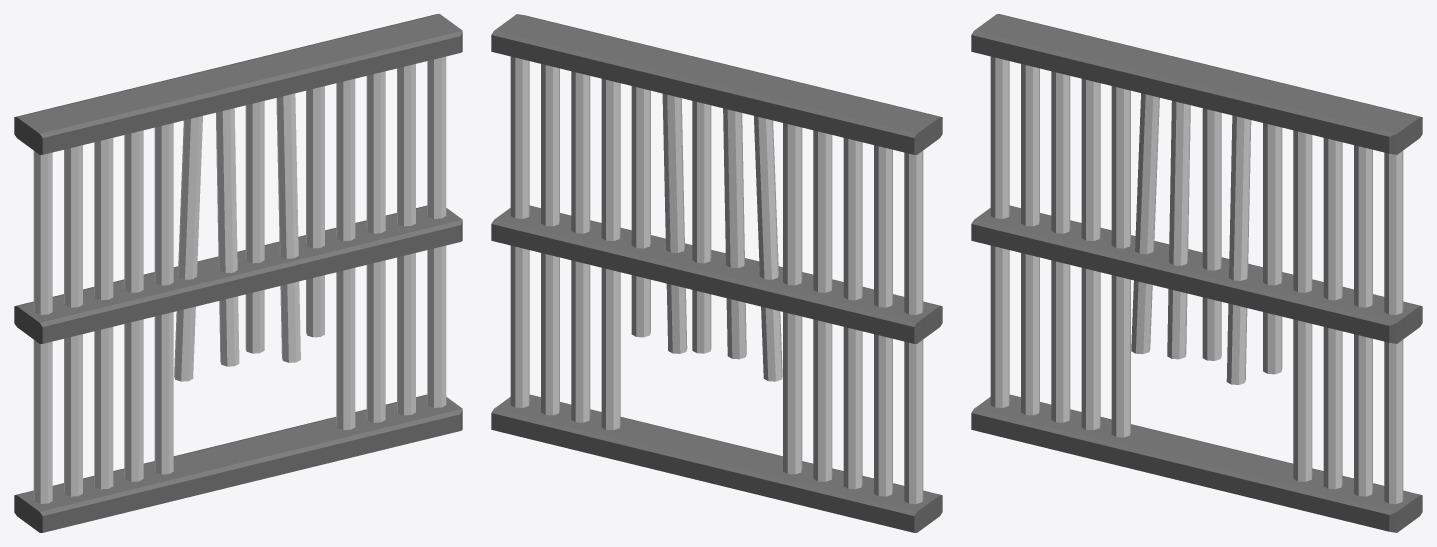
The model's file is PrisonBarsBroken.glb.
3 renders of one model, left to right at view 1: azimuth 30°, elevation 25°; view 2: azimuth 150°, elevation 25°; view 3: azimuth 330°, elevation 25°, orthographic.
Visible parts, largest first — view 1: Cage2; view 2: Cage2; view 3: Cage2.
Part boxes in pixels (x1,y1,x2,y2): Cage2: [14, 14, 462, 532]; Cage2: [491, 14, 942, 532]; Cage2: [971, 14, 1422, 532].
Bounding box in the file's own units: 3.71 × 3.34 × 0.4332.
1 material, 1 textured.
